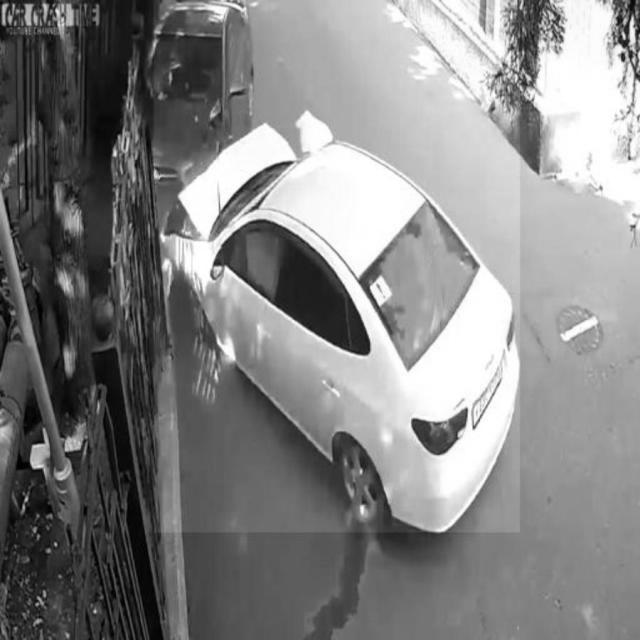accident: (154, 0, 520, 532)
